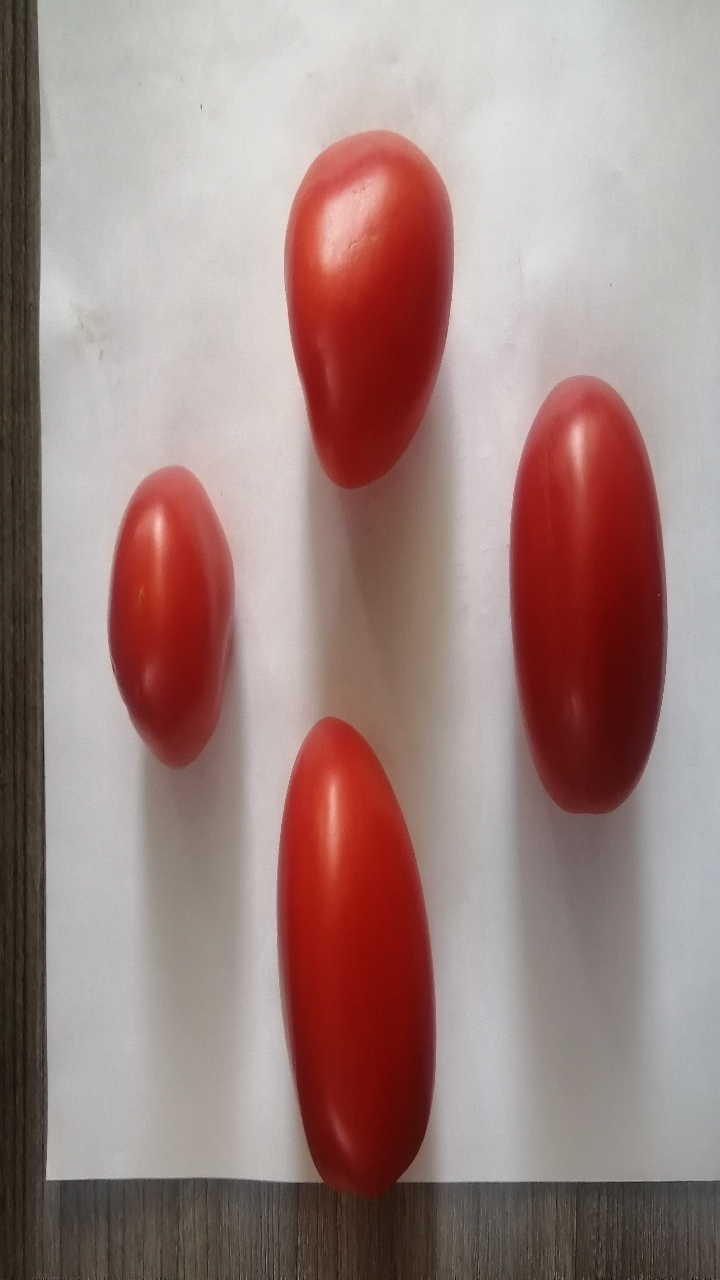tomateRojo: (255, 709, 464, 1215), (483, 368, 688, 845), (269, 109, 469, 519), (86, 445, 263, 779)
